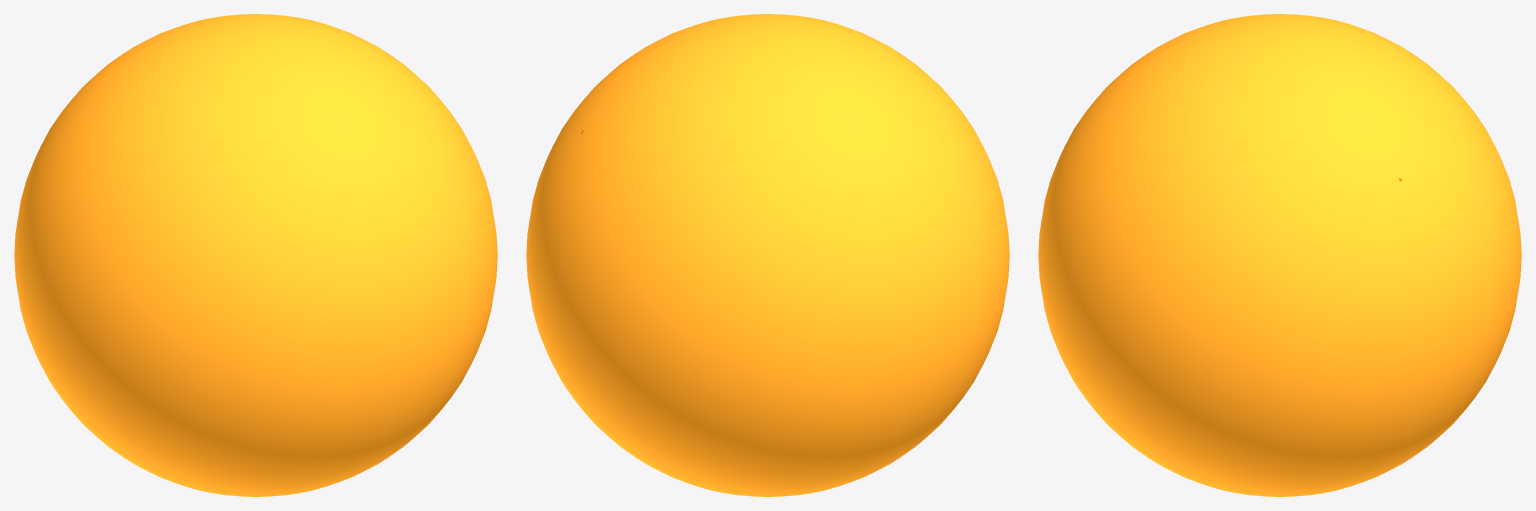
Rendered from animal.glb.
3 renders of one model, left to right at view 1: azimuth 30°, elevation 25°; view 2: azimuth 150°, elevation 25°; view 3: azimuth 270°, elevation 25°, orthographic.
Parts seen in each view (by area): view 1: membrane; view 2: membrane; view 3: membrane.
Part boxes in pixels (<box>): membrane: <box>14,14,497,496</box>; membrane: <box>526,14,1009,496</box>; membrane: <box>1038,14,1521,496</box>.
Size of the model in its own units: 0.26 by 0.26 by 0.26.
